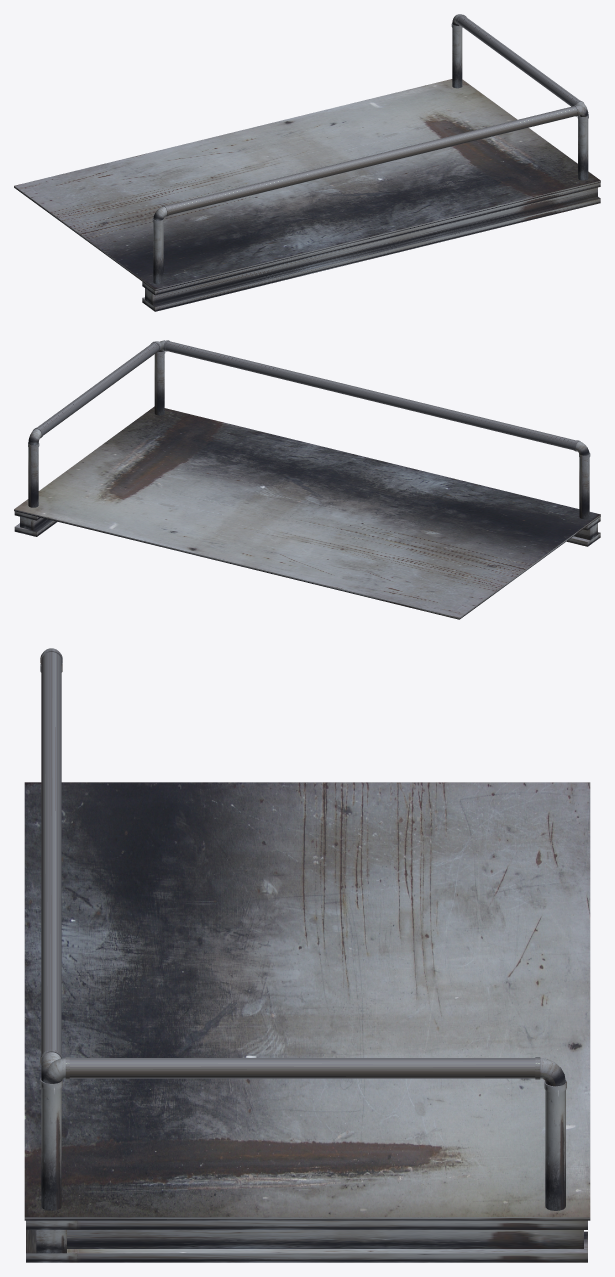
Rendered from catwalk_end_fix_2.FBX.
The picture shows the model from 3 angles, top to bottom: view 1: azimuth 30°, elevation 25°; view 2: azimuth 150°, elevation 25°; view 3: azimuth 270°, elevation 25°; orthographic projection. The views are drawn at different scales.
Parts seen in each view (by area): view 1: Box021, Cylinder019, Box016, Box018, Box017, Cylinder025, Cylinder018, Cylinder023, Cylinder022; view 2: Box021, Cylinder019, Cylinder025, Cylinder018, Cylinder023, Cylinder022; view 3: Box021, Cylinder025, Box014, Cylinder019, Box013, Box015, Cylinder023, Cylinder020, Box018.
Boxes of the visible parts, left/top/right/bottom form: Box021: left=14, top=79, right=600, bottom=290; Cylinder019: left=162, top=105, right=587, bottom=216; Box016: left=145, top=187, right=597, bottom=305; Box018: left=142, top=196, right=600, bottom=311; Box017: left=142, top=182, right=600, bottom=295; Cylinder025: left=452, top=14, right=583, bottom=106; Cylinder018: left=152, top=217, right=163, bottom=284; Cylinder023: left=451, top=23, right=462, bottom=88; Cylinder022: left=577, top=114, right=588, bottom=180; Box021: left=14, top=406, right=600, bottom=619; Cylinder019: left=160, top=340, right=580, bottom=451; Cylinder025: left=28, top=341, right=160, bottom=445; Cylinder018: left=579, top=452, right=590, bottom=519; Cylinder023: left=28, top=442, right=39, bottom=507; Cylinder022: left=155, top=351, right=165, bottom=415; Box021: left=24, top=782, right=590, bottom=1220; Cylinder025: left=65, top=1057, right=565, bottom=1086; Box014: left=67, top=1230, right=583, bottom=1248; Cylinder019: left=40, top=649, right=62, bottom=1080; Box013: left=77, top=1231, right=587, bottom=1262; Box015: left=77, top=1220, right=587, bottom=1229; Cylinder023: left=544, top=1080, right=566, bottom=1210; Cylinder020: left=41, top=1088, right=61, bottom=1210; Box018: left=26, top=1230, right=77, bottom=1262.
Size of the model in its own units: 10 by 2.08 by 5.5.
Materials: 1 (1 with a texture image).
